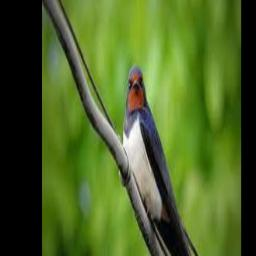Swallow: (122, 64, 220, 256)
